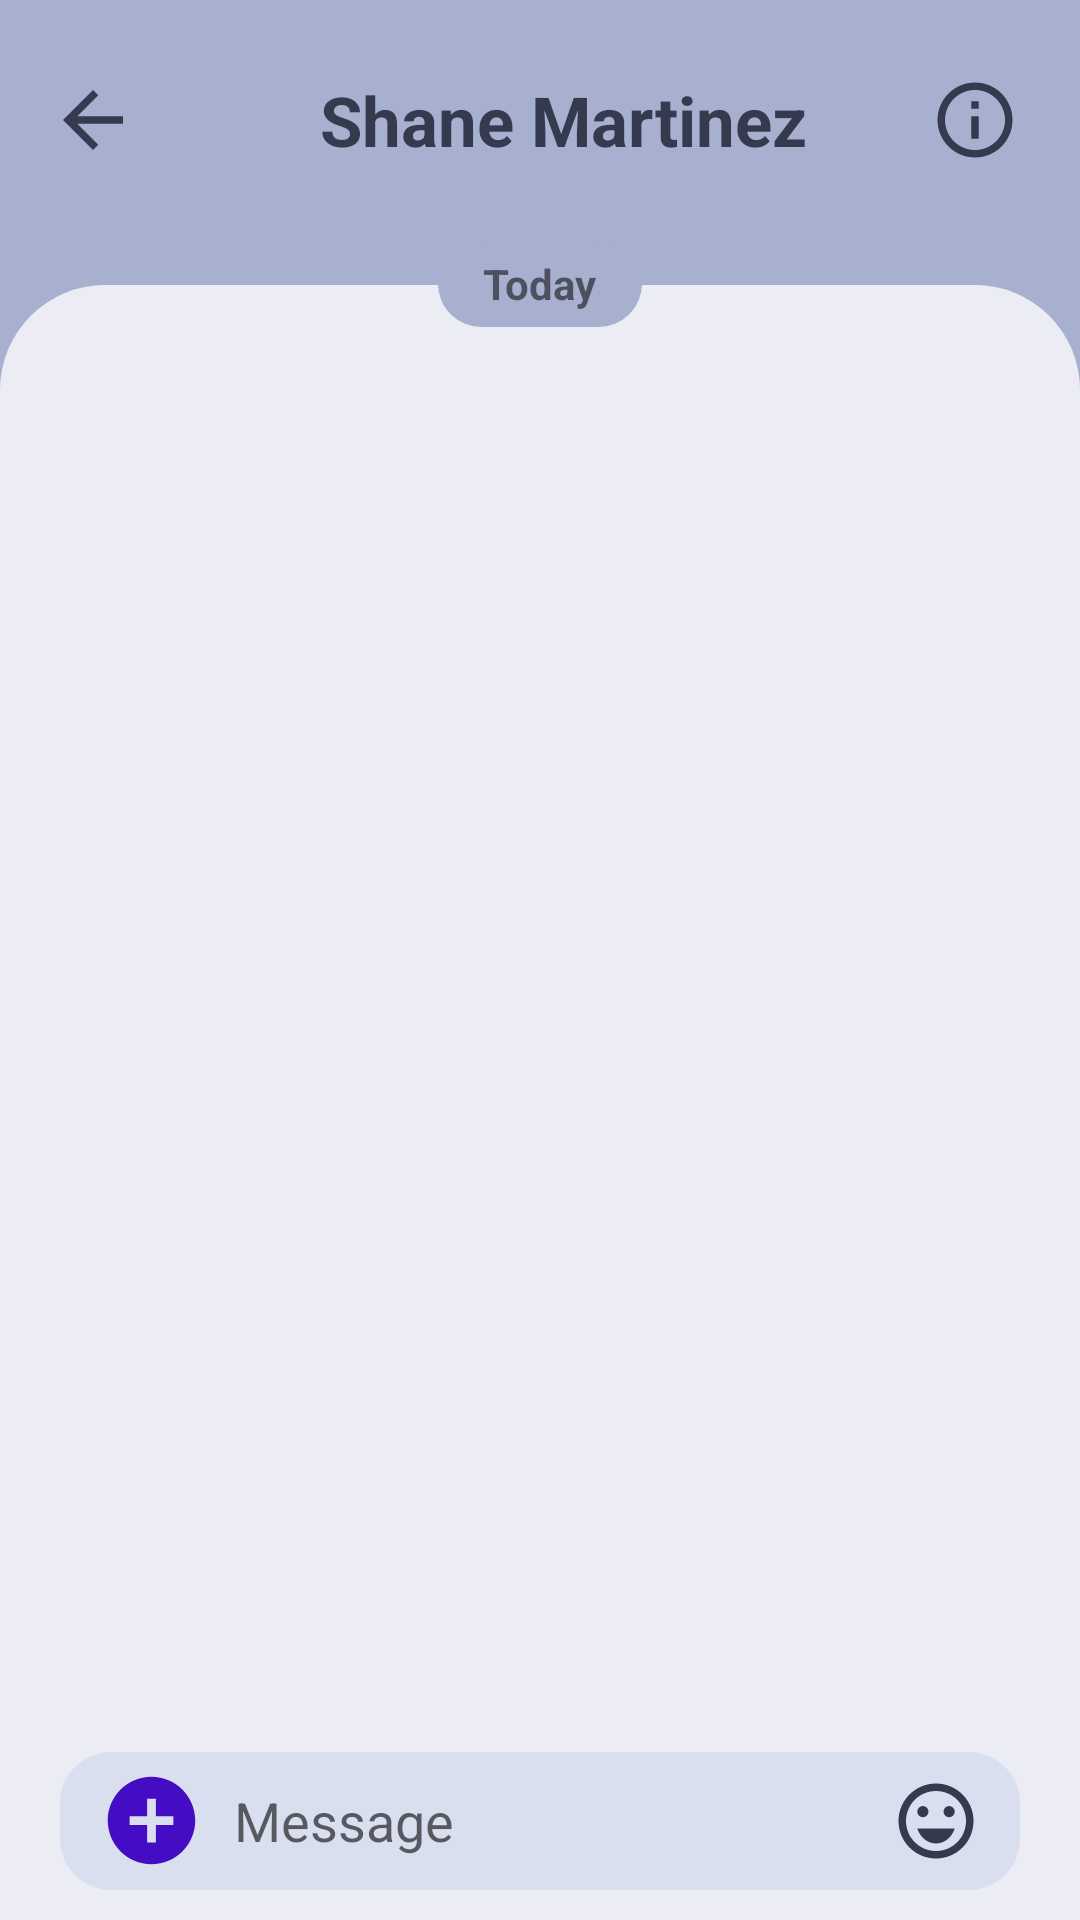

Icons on this 1080px x 1920px Android screen, each with its box as (x1, y1, x2, y2):
about: (937, 82, 1013, 158)
back: (63, 90, 123, 150)
emoji: (898, 1783, 974, 1859)
